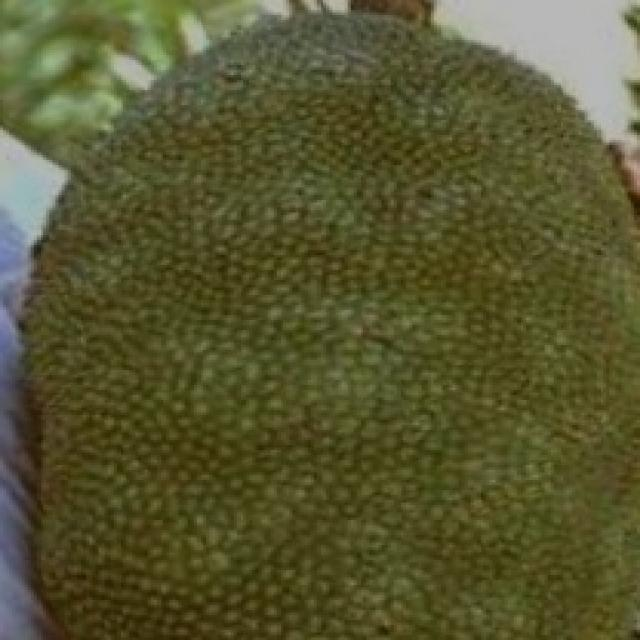Fruit: (0, 280, 391, 640), (255, 0, 640, 305)
